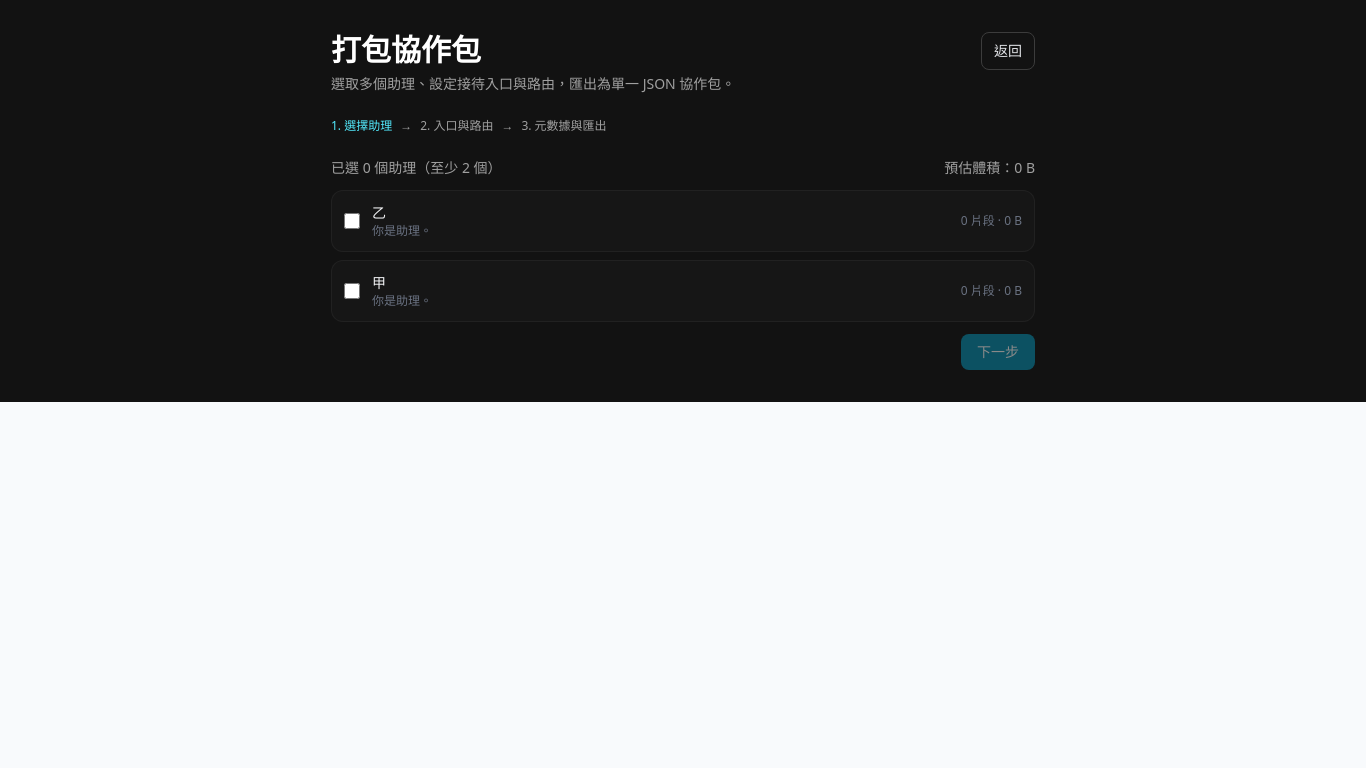
BundleBuilder › warns above the large-file threshold
Click the checkbox labelled "甲 你是助理。 0 片段 · 0 B" at (352, 291), box [344,283,360,299]
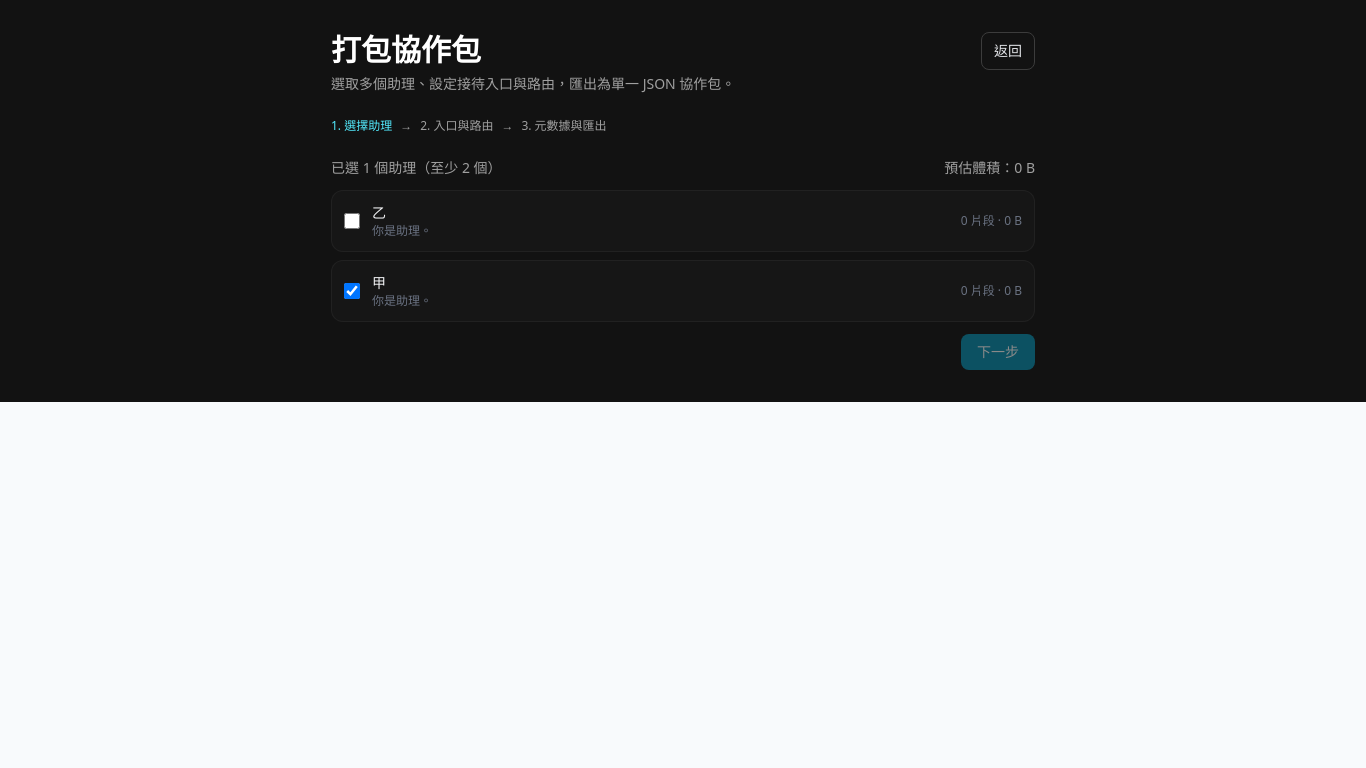
Click the checkbox labelled "乙 你是助理。 0 片段 · 0 B" at (352, 221), box [344,213,360,229]
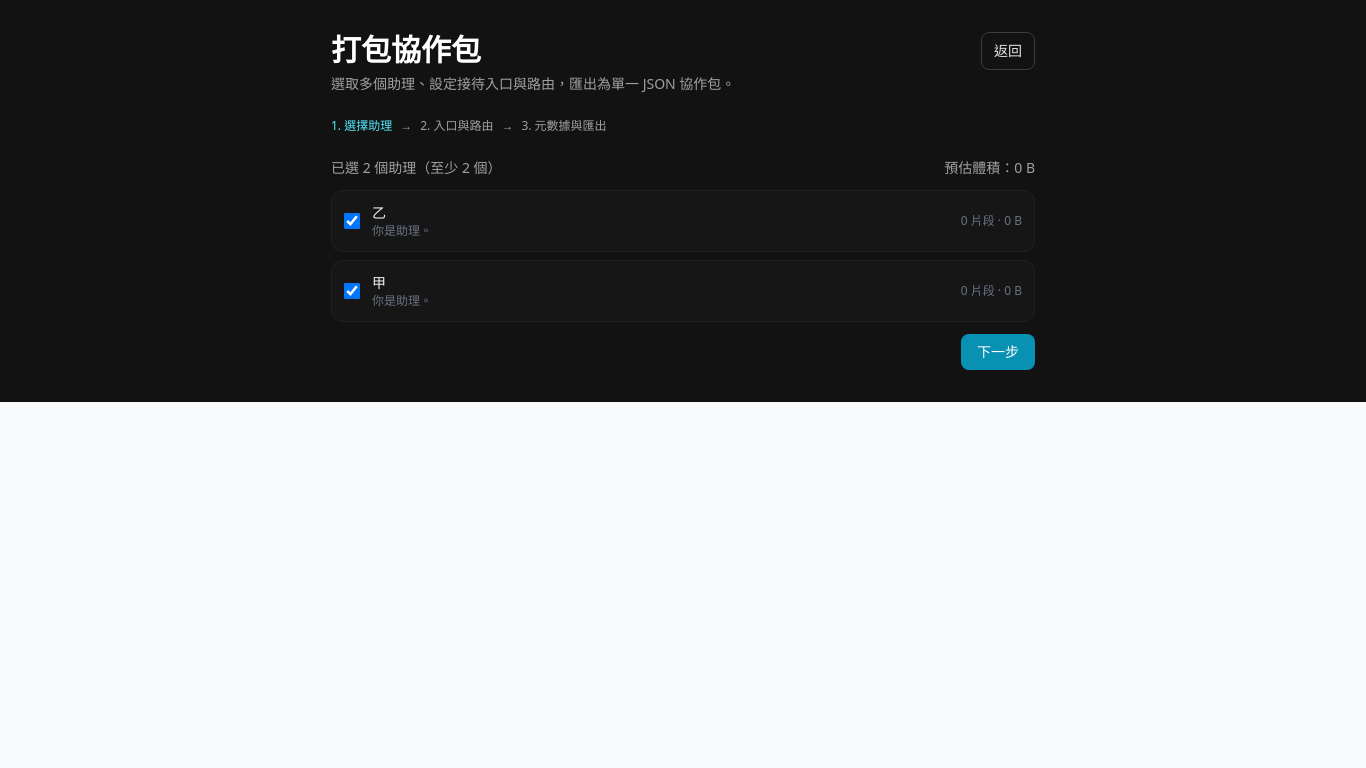
Click the button "下一步" at (998, 352), box [961,334,1035,370]
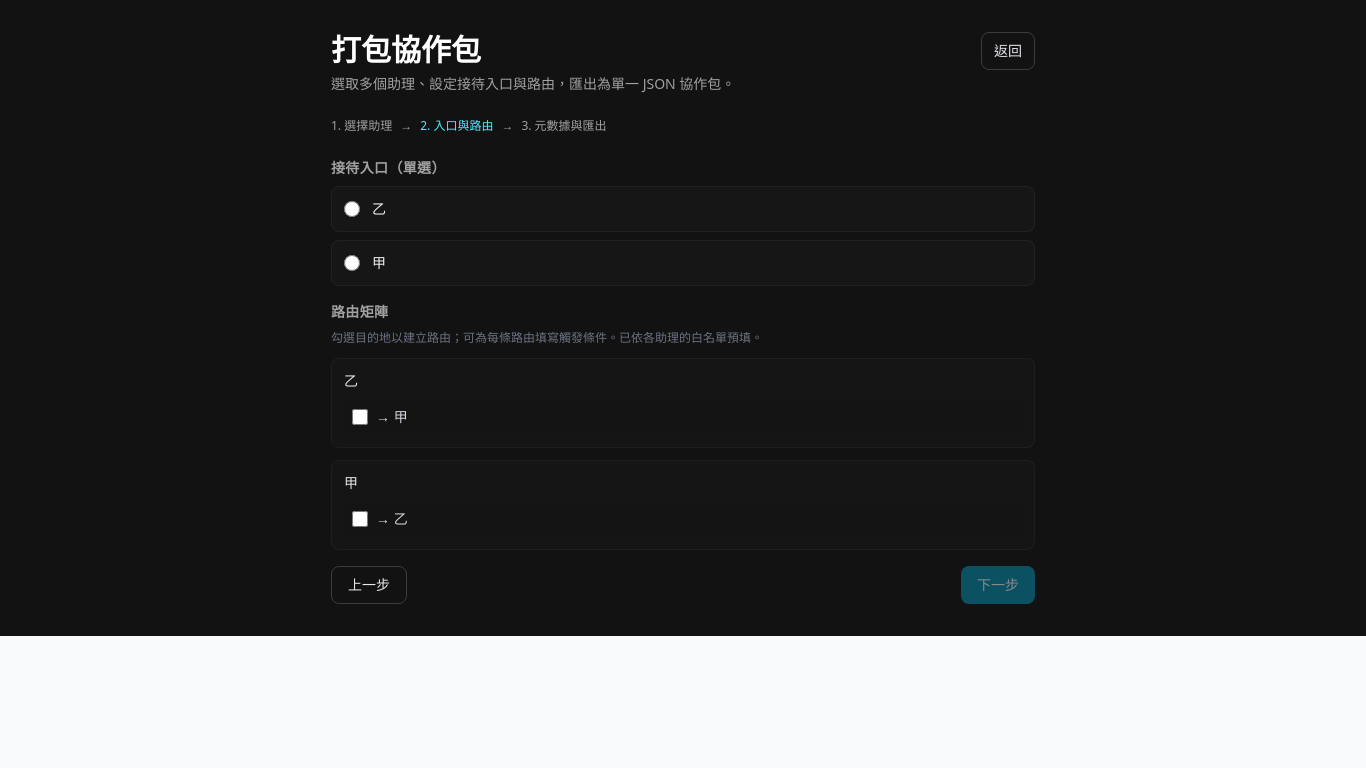
Click the radio button named "設為接待入口：甲" at (352, 263), box [344,255,360,271]
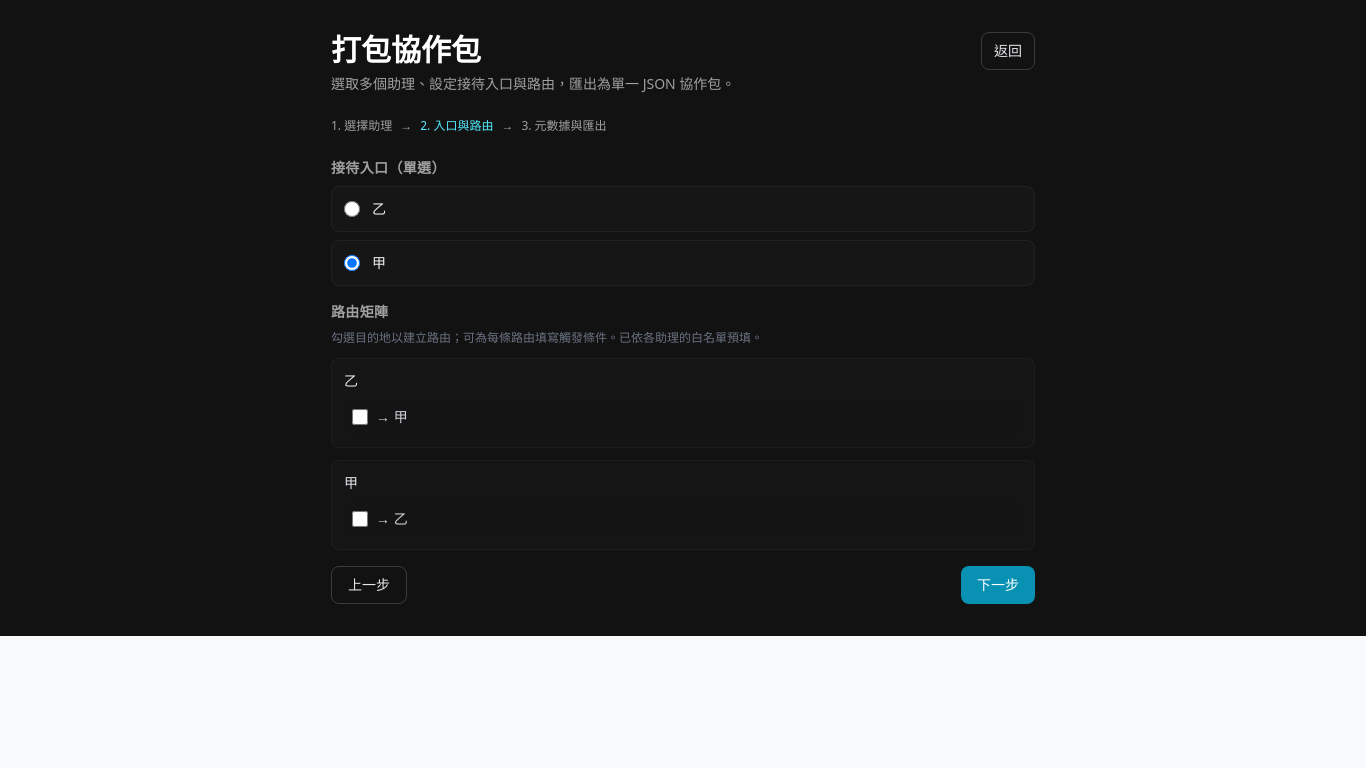
Click the button "下一步" at (998, 585), box [961,566,1035,604]
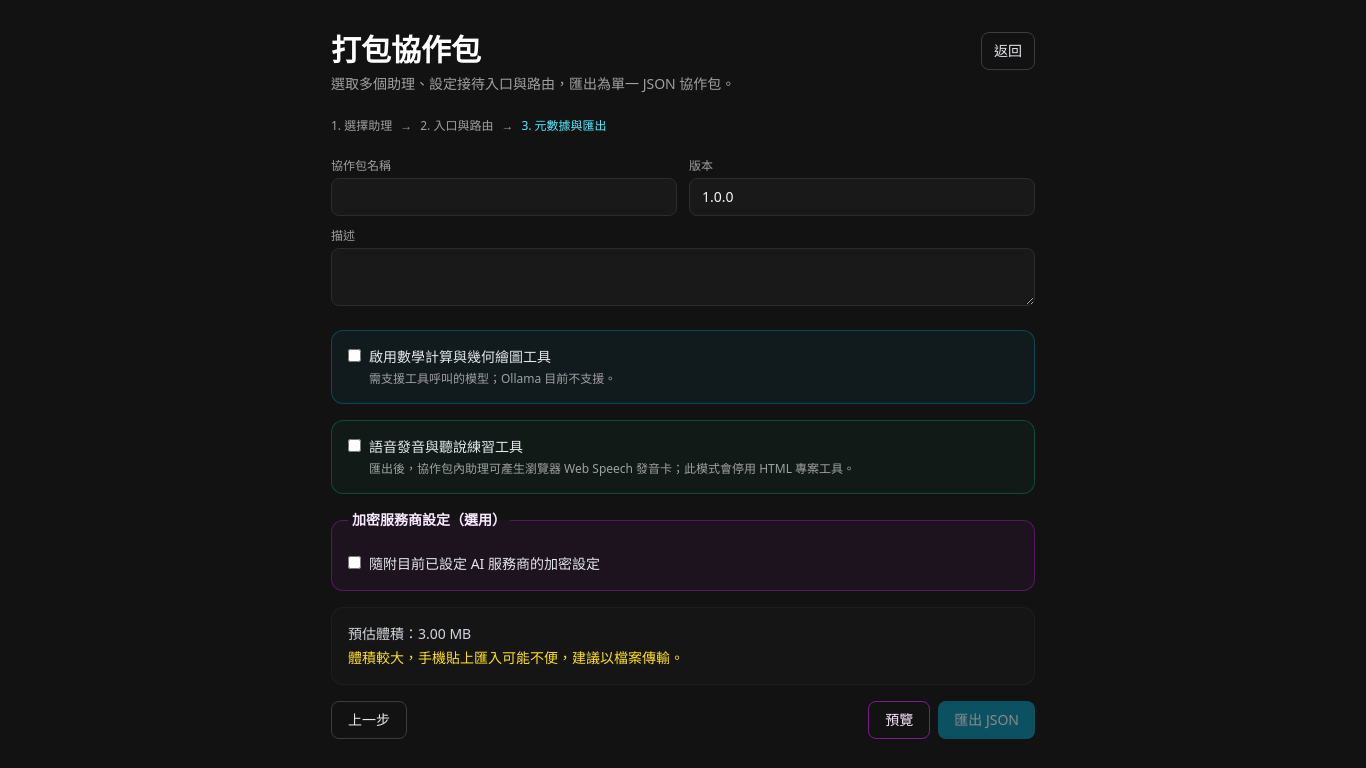
Now the text "體積較大，手機貼上匯入可能不便，建議以檔案傳輸。" is shown, box [348,648,684,667]
